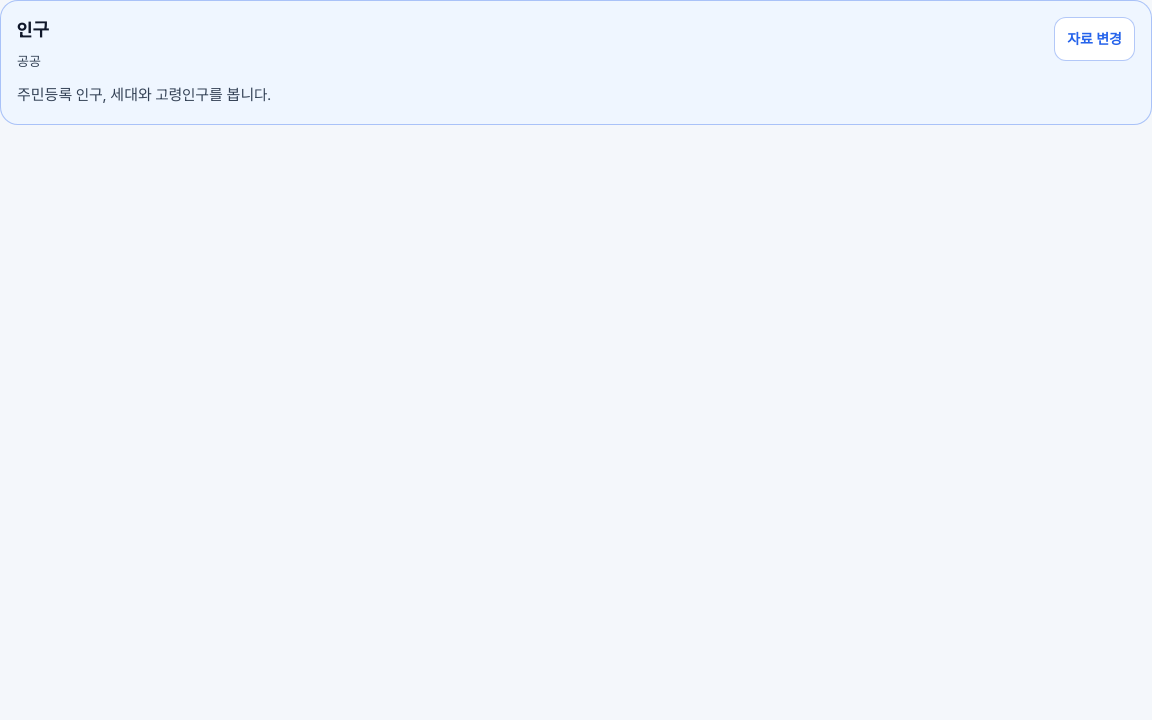
Test: LayerSwitcher › renders every layer option
Click the button "자료 변경". click: (1095, 39)
box: x1=1054 y1=17 x2=1135 y2=61
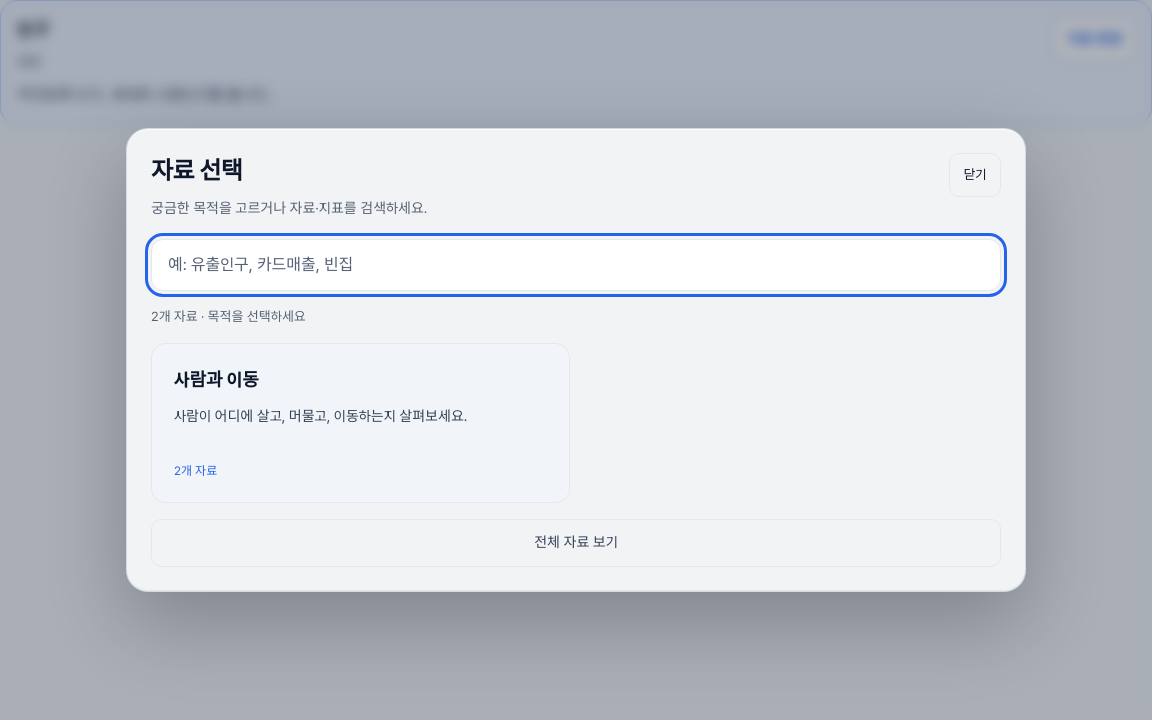
Click the button "전체 자료 보기". click: (576, 543)
box: x1=151 y1=519 x2=1001 y2=567
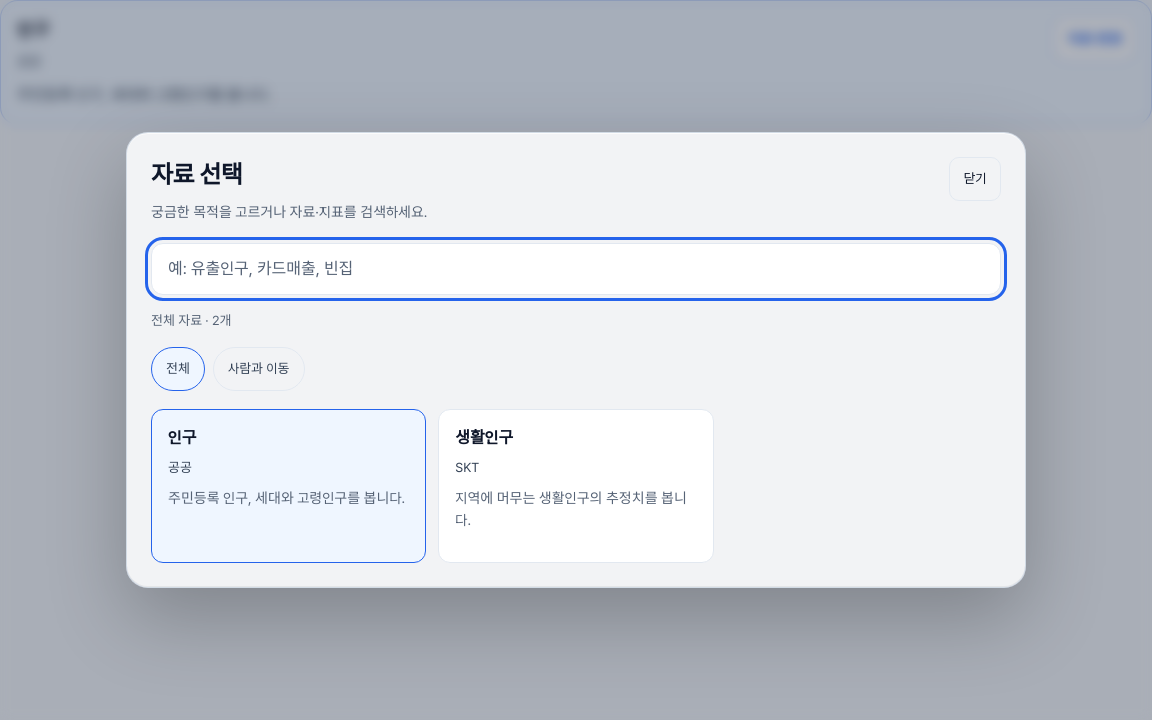
Result: the button "인구 공공 주민등록 인구, 세대와 고령인구를 봅니다." is shown at x1=151 y1=409 x2=426 y2=563
Result: the button "생활인구 SKT 지역에 머무는 생활인구의 추정치를 봅니다." is shown at x1=438 y1=409 x2=714 y2=563
